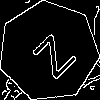Z: (23, 26, 78, 80)
